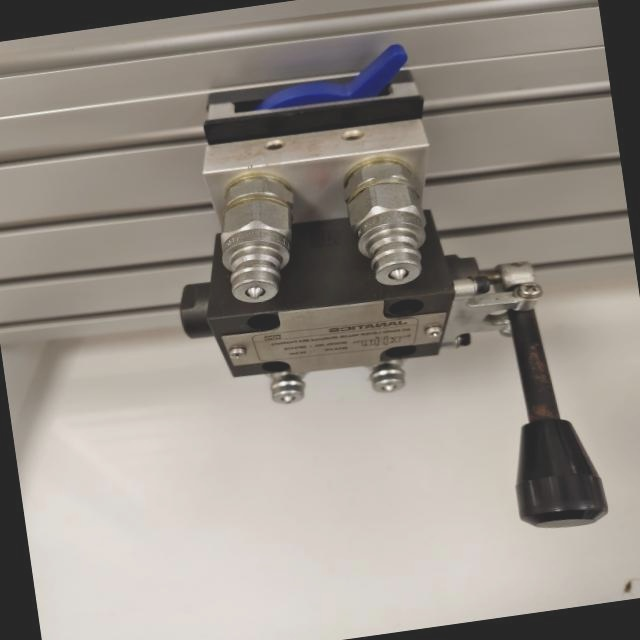4by3 hand lever valve: (139, 23, 611, 583)
